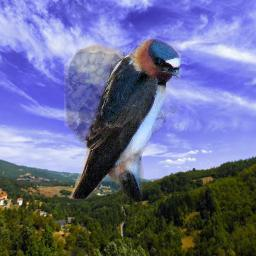Swallow: (64, 37, 181, 199)
